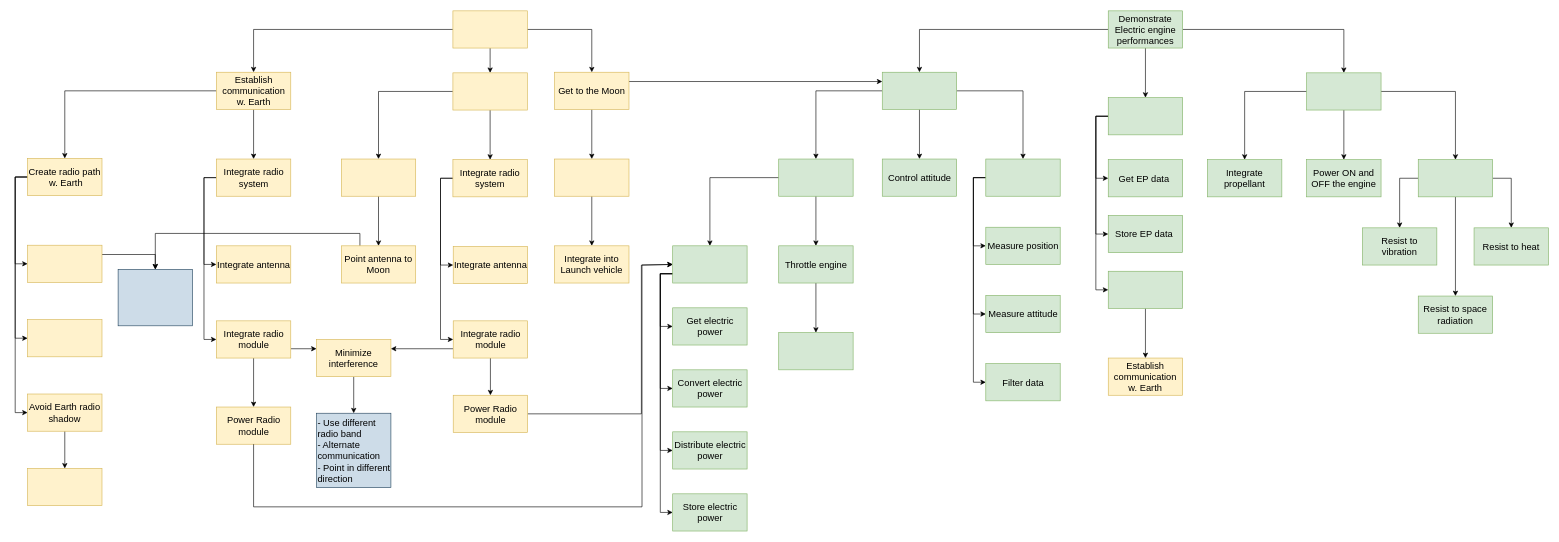
Image size: 1559x542. Some labels were removed from this diagram. The shapes that lost their labels are listed below. From the top down, each one's centre as x and y in pixels, then its label:
At (489,29): "Relay data from Far-Side of the Moon".
At (489,91): "Establish communication w. FS of the Moon".
At (919,90): "Transfer spacecraft using EP".
At (1343,91): "Operate for long duration".
At (1145,116): "Manage EP data".
At (378,177): "Create radio path w. Moon".
At (591,177): "Launch into orbit".
At (815,177): "Generate thrust".
At (1022,177): "Get spacecraft state".
At (1455,178): "Resist to space environment".
At (64,263): "Point antenna to Earth".
At (709,264): "Manage electric power".
At (155,297): "- Steer antenna - Use large beamwidth".
At (1145,289): "Transmit EP data".
At (64,338): "Avoid Moon radio shadow".
At (815,351): "Integrate EP engine".
At (64,487): "Use multiple GS receiver".
